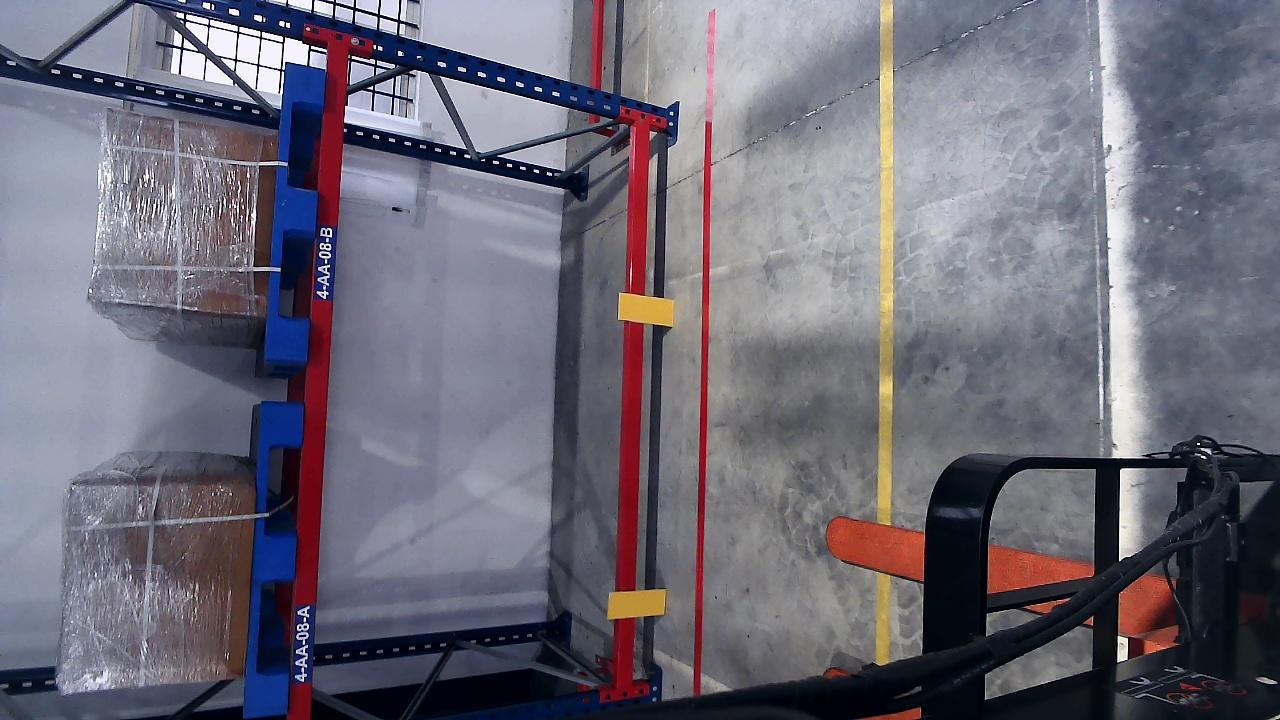h_rack: (282, 44, 346, 720), (615, 121, 648, 696)
orange_strip: (618, 293, 674, 325), (608, 588, 667, 617)
red_line: (691, 11, 715, 694)
small_pallet: (247, 400, 308, 717), (263, 63, 324, 359)
yellow_line: (876, 0, 891, 668)
